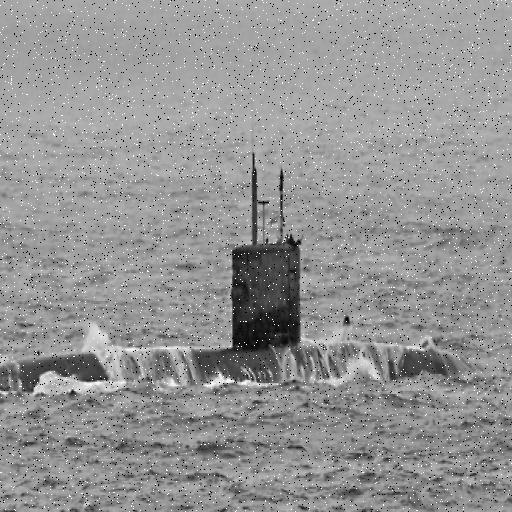submarine: (1, 146, 461, 405)
